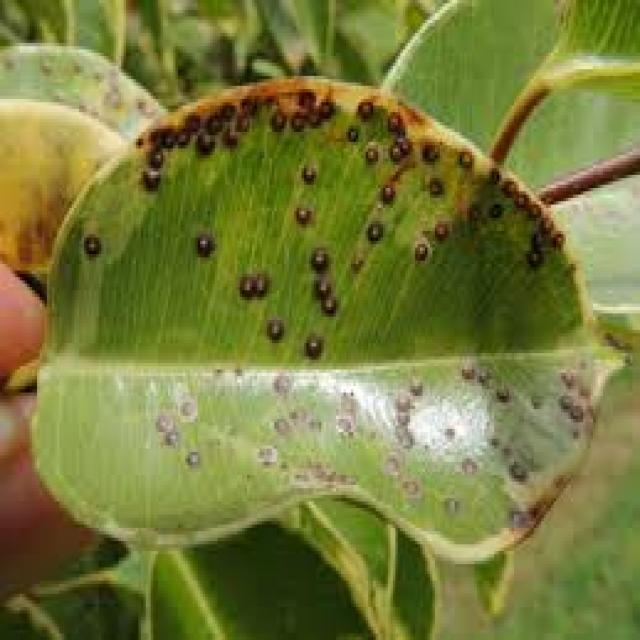scale_insect: (393, 465, 422, 502), (76, 224, 104, 261), (504, 495, 531, 531), (250, 436, 279, 468), (328, 406, 356, 439), (267, 363, 294, 396), (408, 231, 432, 267), (232, 267, 257, 300), (299, 326, 324, 359), (148, 406, 173, 439), (388, 386, 415, 416), (378, 445, 405, 475), (173, 390, 198, 422), (264, 99, 286, 135), (428, 211, 452, 244), (190, 125, 215, 155), (311, 92, 336, 122), (200, 102, 222, 136), (247, 264, 269, 297), (262, 310, 284, 343), (306, 241, 328, 274), (218, 115, 240, 148), (403, 366, 425, 399), (519, 238, 544, 267), (381, 102, 405, 132), (502, 455, 528, 482), (358, 135, 381, 165), (230, 102, 250, 136), (178, 442, 203, 469), (354, 92, 376, 122), (418, 135, 440, 165), (455, 353, 477, 383), (190, 228, 212, 257), (361, 215, 383, 244), (168, 119, 190, 148), (284, 106, 306, 135), (452, 142, 474, 171), (532, 205, 554, 234), (316, 287, 336, 317), (383, 135, 403, 165), (422, 168, 442, 198), (496, 168, 516, 198), (388, 402, 413, 426), (346, 244, 366, 274), (212, 96, 235, 122), (302, 102, 324, 129), (440, 488, 462, 515), (158, 422, 180, 449), (270, 409, 292, 436), (180, 106, 200, 135), (376, 175, 396, 204), (522, 195, 542, 224), (457, 449, 477, 478), (309, 274, 331, 300), (138, 162, 160, 188), (564, 396, 586, 422), (554, 363, 576, 389), (546, 221, 563, 254), (296, 158, 316, 185), (156, 122, 176, 149), (234, 89, 254, 116), (292, 198, 312, 224), (292, 86, 318, 106), (482, 162, 502, 188), (484, 195, 504, 221), (464, 195, 484, 221), (554, 386, 574, 412), (472, 360, 492, 386), (286, 396, 306, 422), (302, 406, 322, 432), (144, 145, 166, 168), (509, 182, 526, 211), (341, 119, 358, 145), (489, 380, 509, 402), (395, 132, 413, 155), (526, 225, 544, 248), (244, 92, 260, 116)
